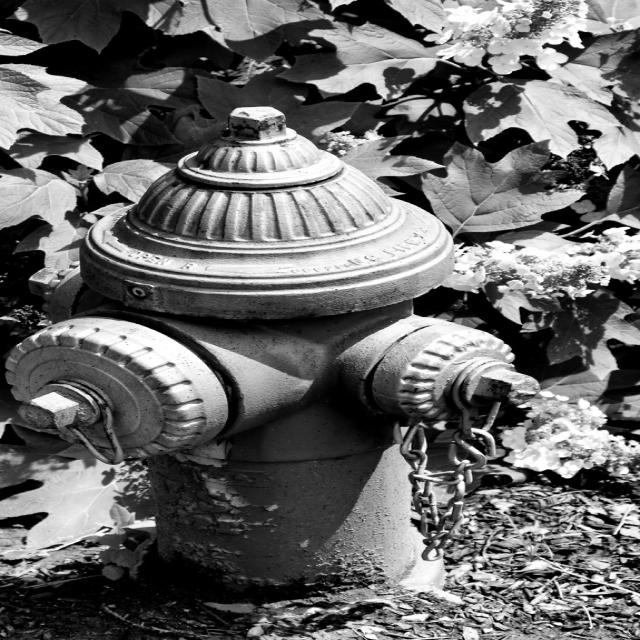fire_hydrant: (5, 105, 541, 618)
